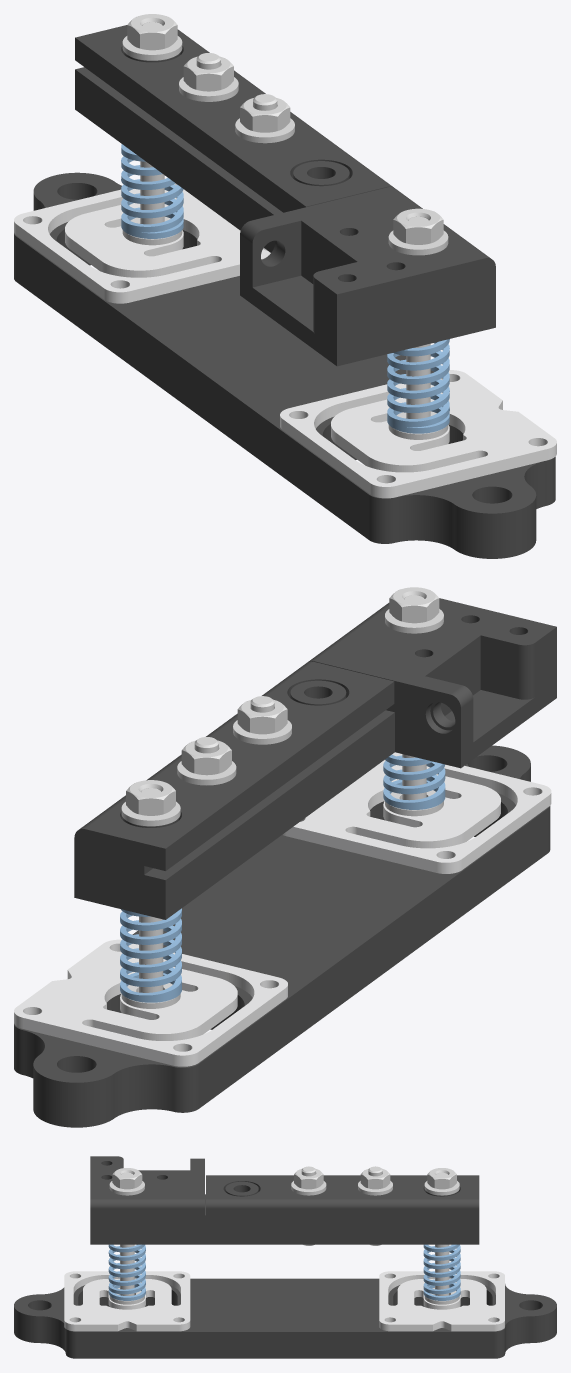
The model's file is detal.gltf.
The picture shows the model from 3 angles, top to bottom: view 1: azimuth 30°, elevation 25°; view 2: azimuth 150°, elevation 25°; view 3: azimuth 270°, elevation 25°; orthographic projection. The views are drawn at different scales.
Parts seen in each view (by area): view 1: Node2, Node4, Node3, Node1; view 2: Node2, Node4, Node3, Node1; view 3: Node2, Node4, Node3, Node1.
Boxes of the visible parts, x1=… form: Node2: x1=14, y1=25, x2=555, y2=558; Node4: x1=14, y1=183, x2=556, y2=498; Node3: x1=122, y1=14, x2=448, y2=439; Node1: x1=121, y1=144, x2=449, y2=433; Node2: x1=14, y1=598, x2=556, y2=1127; Node4: x1=14, y1=752, x2=551, y2=1066; Node3: x1=121, y1=587, x2=443, y2=1008; Node1: x1=120, y1=754, x2=445, y2=1002; Node2: x1=14, y1=1156, x2=556, y2=1358; Node4: x1=64, y1=1271, x2=504, y2=1331; Node3: x1=109, y1=1166, x2=459, y2=1304; Node1: x1=108, y1=1244, x2=460, y2=1300.
Bounding box in the file's own units: 37.8 × 48.62 × 147.
